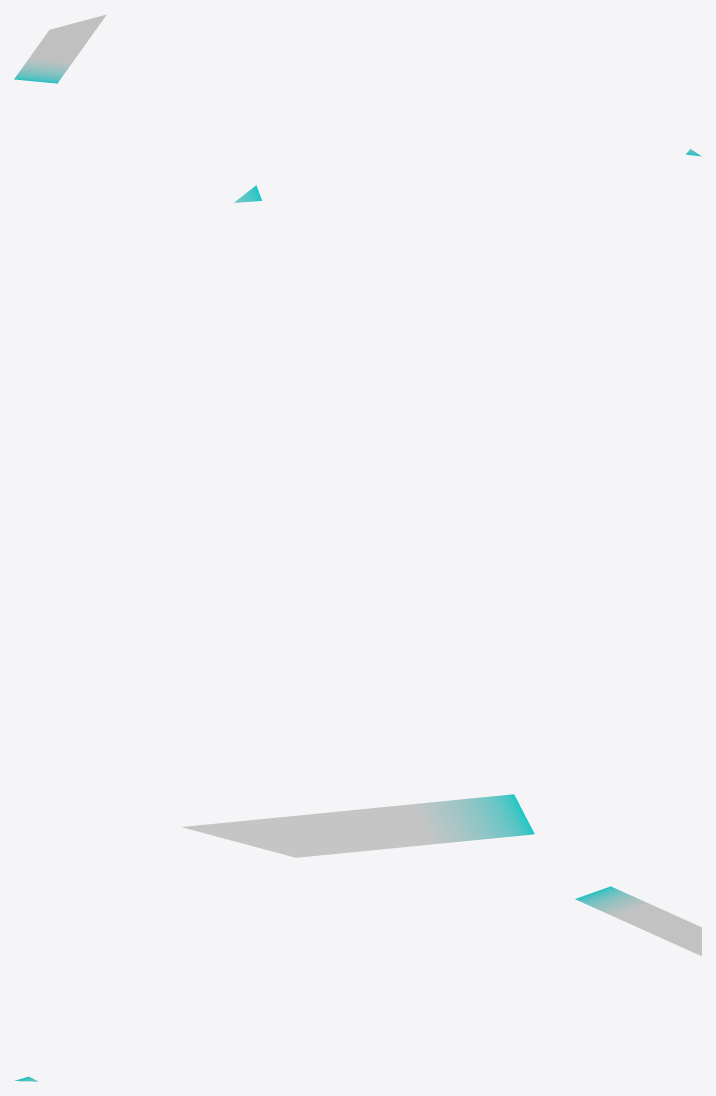
The picture shows the model from 3 angles, top to bottom: view 1: azimuth 30°, elevation 25°; view 2: azimuth 150°, elevation 25°; view 3: azimuth 270°, elevation 25°; orthographic projection. The views are drawn at different scales.
Visible parts, largest first — view 1: SpaceCenter_Long3_GenerateRoad_Asphalt_PCGMesh_Decal_Mesh_x1; view 2: SpaceCenter_Long3_GenerateRoad_Asphalt_PCGMesh_Decal_Mesh_x1; view 3: SpaceCenter_Long3_GenerateRoad_Asphalt_PCGMesh_Decal_Mesh_x1.
Part boxes in pixels (x1,y1,x2,y2): SpaceCenter_Long3_GenerateRoad_Asphalt_PCGMesh_Decal_Mesh_x1: [14, 14, 701, 156]; SpaceCenter_Long3_GenerateRoad_Asphalt_PCGMesh_Decal_Mesh_x1: [182, 185, 534, 857]; SpaceCenter_Long3_GenerateRoad_Asphalt_PCGMesh_Decal_Mesh_x1: [15, 886, 701, 1081].
Bounding box in the file's own units: 502 × 379 × 19.98.
